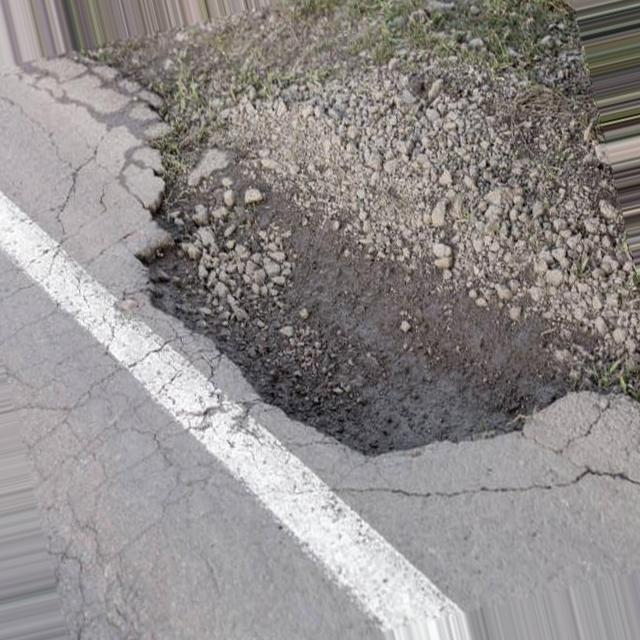Pinggir: (123, 83, 621, 481)
